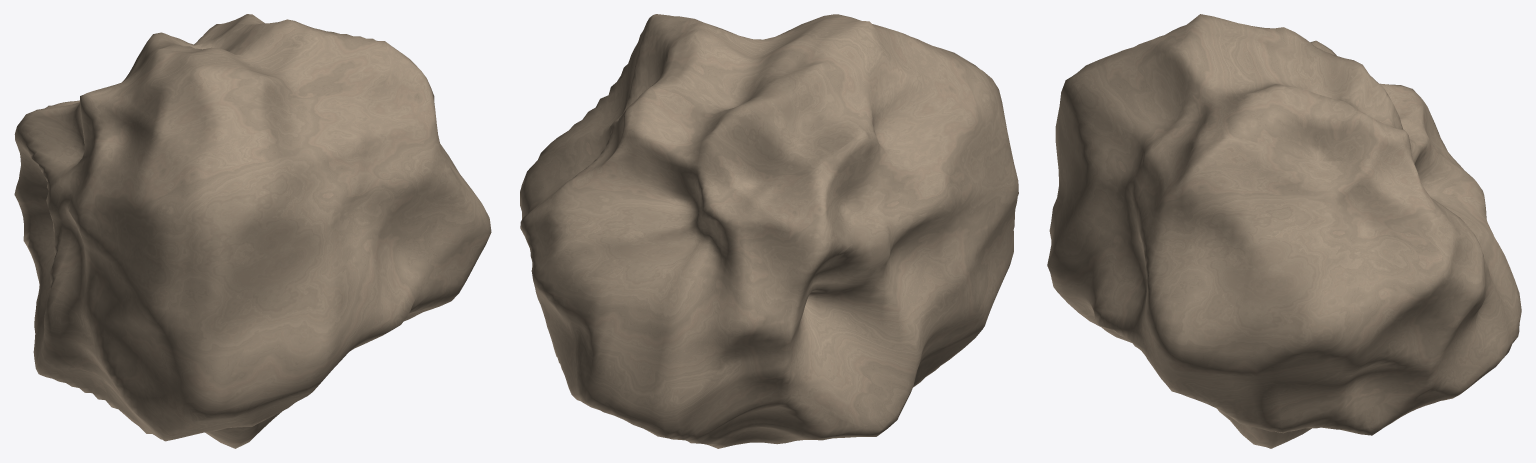
File: boulder2.fbx
3 renders of one model, left to right at view 1: azimuth 30°, elevation 25°; view 2: azimuth 150°, elevation 25°; view 3: azimuth 270°, elevation 25°, orthographic. The views are drawn at different scales.
Visible parts, largest first — view 1: cube.sphere.32; view 2: cube.sphere.32; view 3: cube.sphere.32.
Part boxes in pixels (x1,y1,x2,y2): cube.sphere.32: [14, 14, 491, 448]; cube.sphere.32: [520, 14, 1018, 448]; cube.sphere.32: [1047, 14, 1521, 448].
Size of the model in its own units: 113 by 114 by 123.
